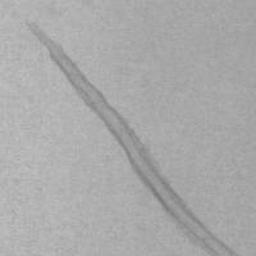Water spot: (33, 23, 241, 256)
